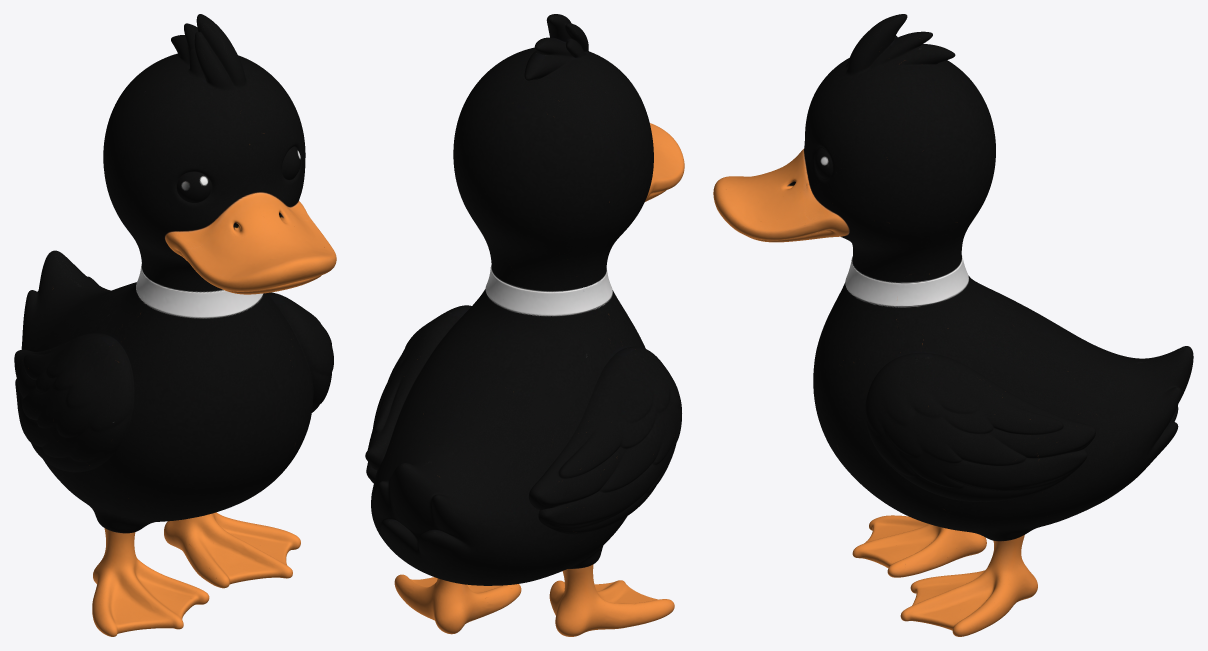
The picture shows the model from 3 angles, left to right: view 1: azimuth 30°, elevation 25°; view 2: azimuth 150°, elevation 25°; view 3: azimuth 270°, elevation 25°; orthographic projection. The views are drawn at different scales.
Size of the model in its own units: 0.9355 by 1.9 by 1.47.
1 material, 1 textured.
